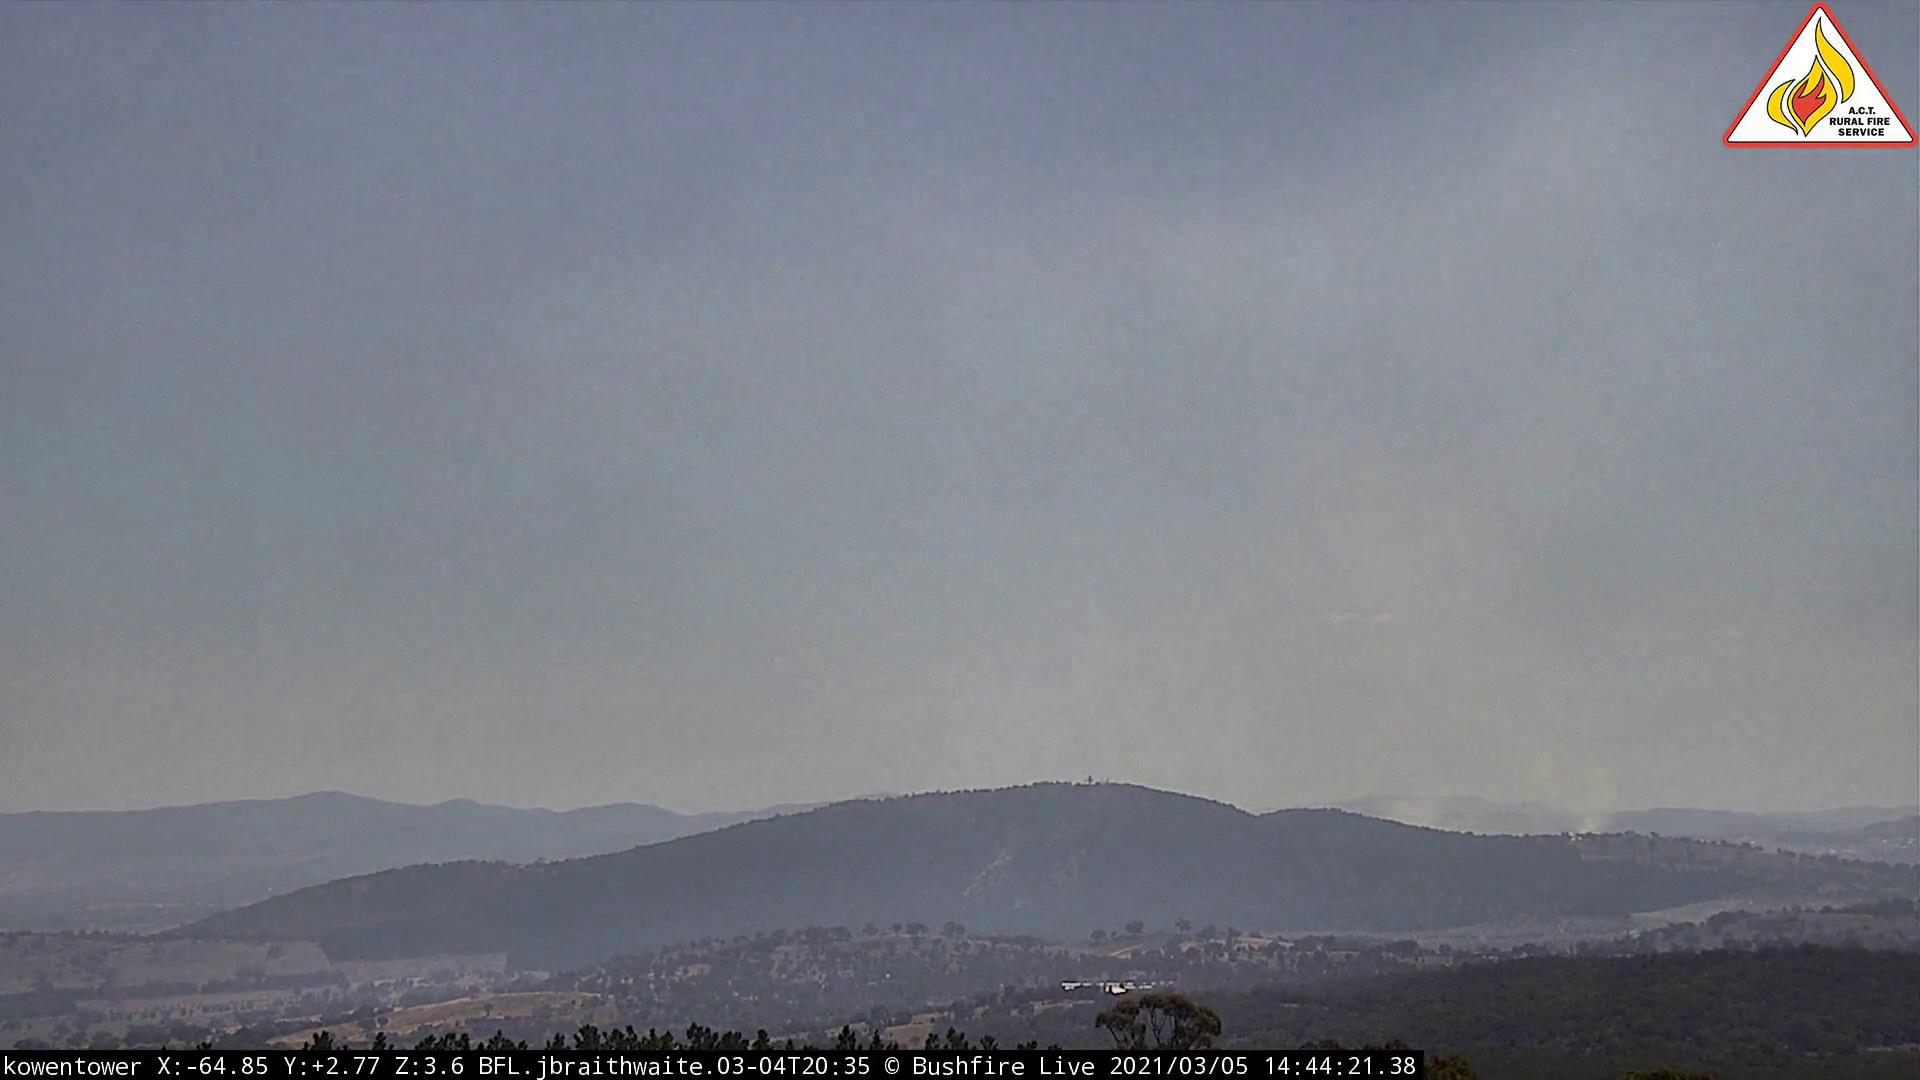Smoke: (1174, 473, 1614, 851)
